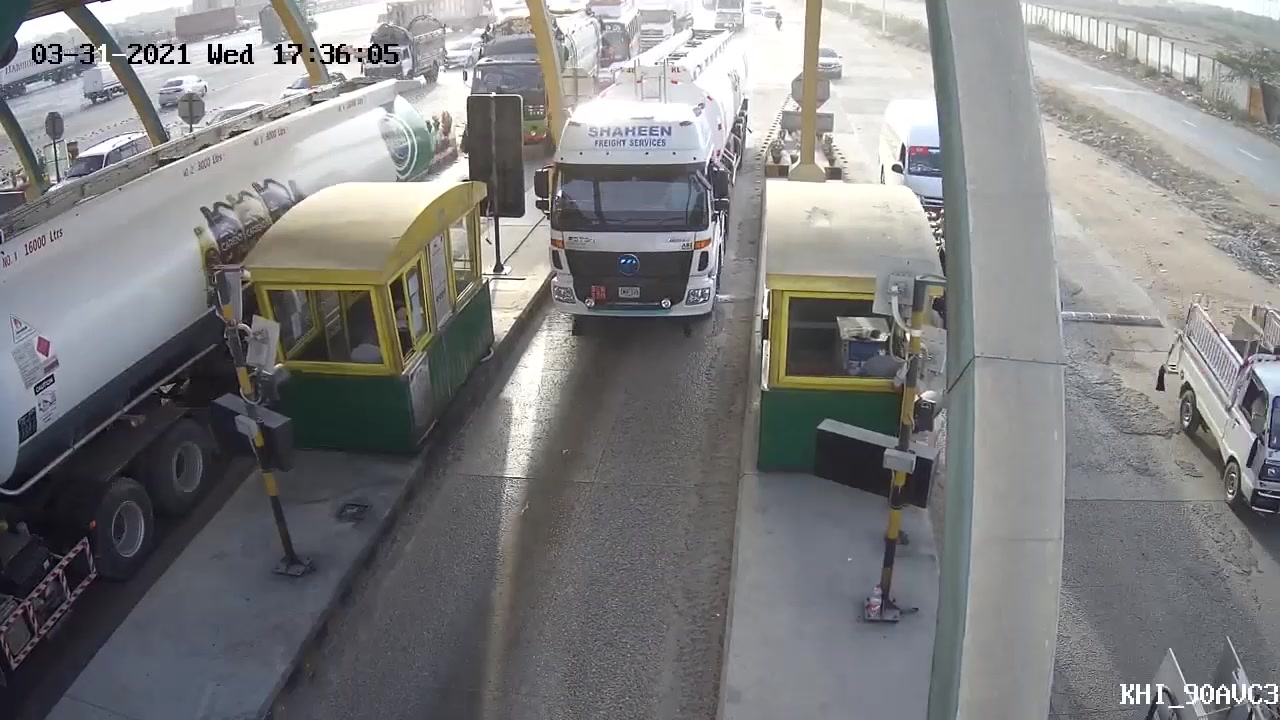F6: (541, 19, 763, 339)
